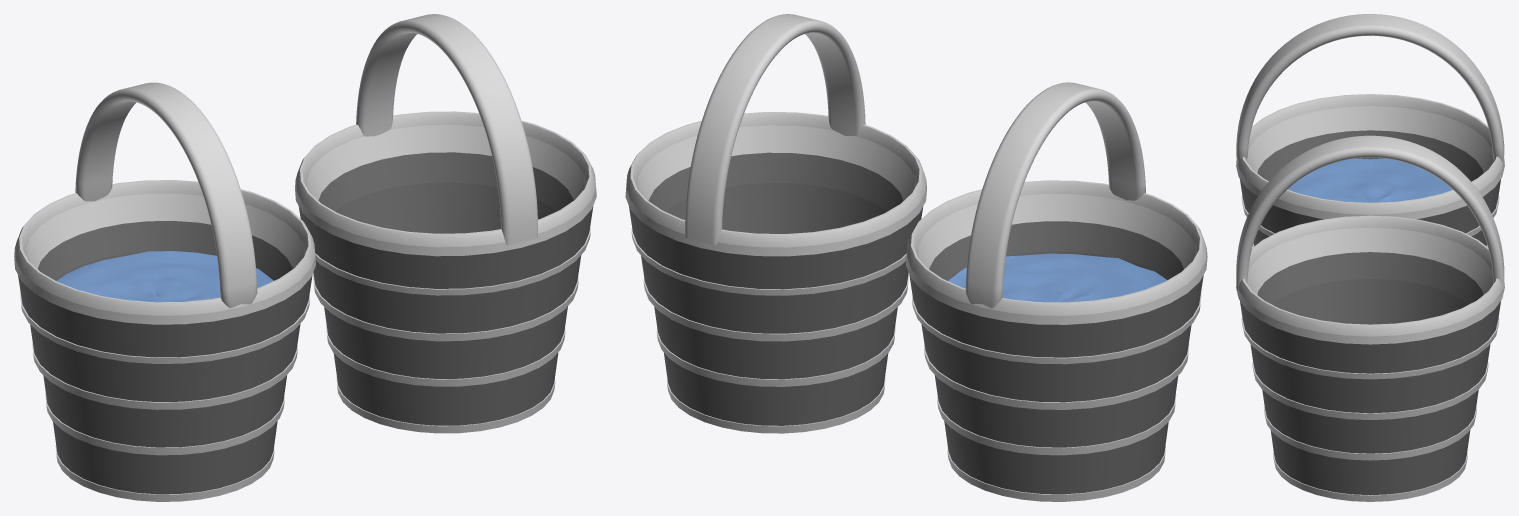
File: Bucket.fbx
3 renders of one model, left to right at view 1: azimuth 30°, elevation 25°; view 2: azimuth 150°, elevation 25°; view 3: azimuth 270°, elevation 25°, orthographic. The views are drawn at different scales.
Parts seen in each view (by area): view 1: Cylinder, Cylinder.001; view 2: Cylinder, Cylinder.001; view 3: Cylinder.001, Cylinder.
Part boxes in pixels (x1,y1,x2,y2): Cylinder: (14, 82, 315, 501); Cylinder.001: (295, 14, 596, 433); Cylinder: (906, 82, 1207, 501); Cylinder.001: (625, 14, 926, 433); Cylinder.001: (1236, 135, 1504, 501); Cylinder: (1236, 14, 1504, 247).
Size of the model in its own units: 583 by 370 by 282.
